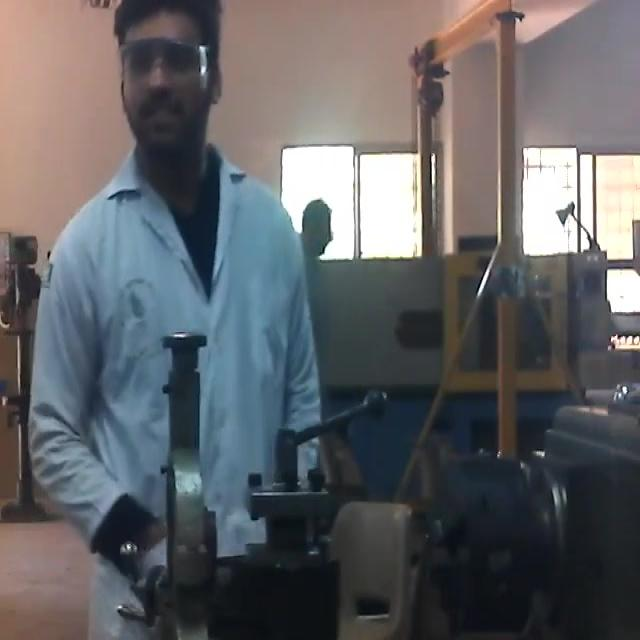googles: (111, 35, 219, 98)
labcoat: (20, 144, 327, 640)
